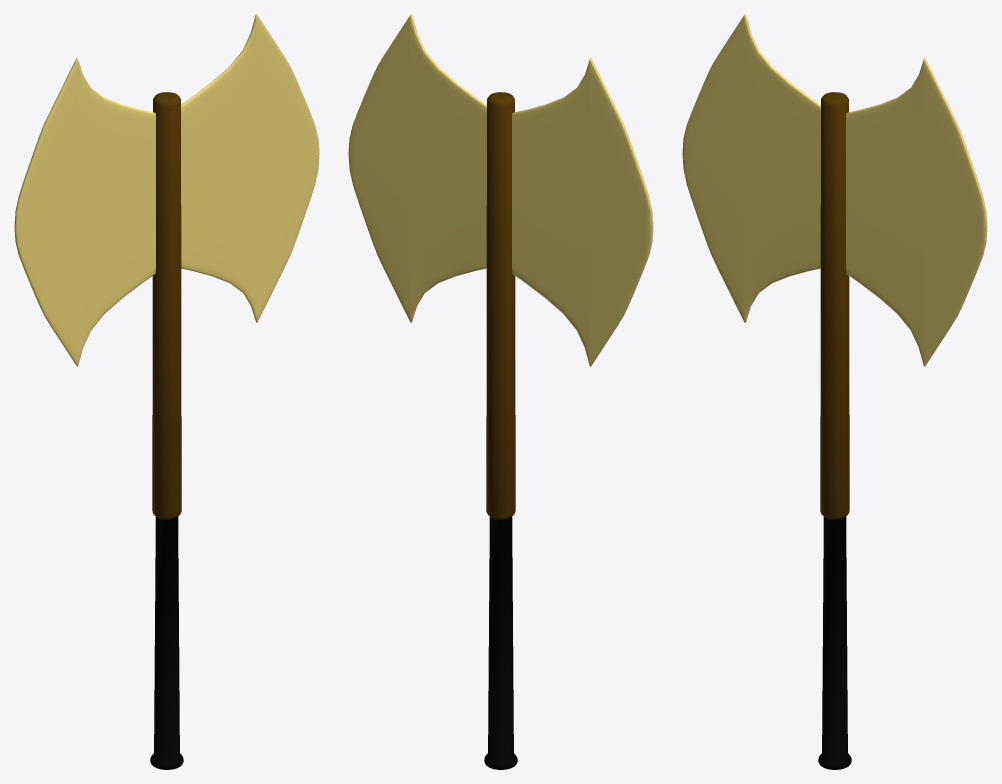
The model's file is TwoHand_Axe_Gold.fbx.
The picture shows the model from 3 angles, left to right: view 1: azimuth 30°, elevation 25°; view 2: azimuth 150°, elevation 25°; view 3: azimuth 330°, elevation 25°; orthographic projection.
Visible parts, largest first — view 1: TwoHand_Axe_Gold; view 2: TwoHand_Axe_Gold; view 3: TwoHand_Axe_Gold.
Boxes of the visible parts, x1=… form: TwoHand_Axe_Gold: x1=14, y1=14, x2=319, y2=769; TwoHand_Axe_Gold: x1=348, y1=14, x2=653, y2=769; TwoHand_Axe_Gold: x1=682, y1=14, x2=987, y2=769.
Bounding box in the file's own units: 546 × 1251 × 52.31.
